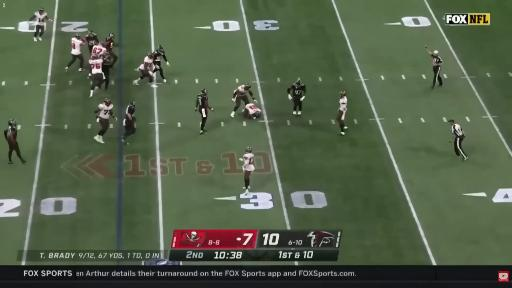Helmet: (101, 98, 111, 106), (245, 147, 253, 155), (108, 32, 116, 40), (295, 80, 303, 87), (340, 91, 347, 98), (147, 51, 154, 58), (200, 89, 208, 95), (8, 120, 16, 126), (158, 46, 164, 53), (75, 34, 82, 40), (92, 56, 100, 60), (245, 84, 251, 89), (254, 112, 260, 117), (130, 100, 135, 106), (39, 8, 44, 13), (104, 51, 109, 56), (89, 30, 93, 35), (99, 43, 103, 47)
Jersey: (98, 103, 114, 119), (139, 56, 154, 71), (288, 85, 305, 98), (124, 105, 135, 125), (89, 59, 103, 74), (243, 153, 254, 171), (197, 94, 208, 111), (72, 38, 83, 55), (153, 50, 167, 62), (6, 126, 17, 141), (246, 104, 261, 115), (86, 33, 98, 46), (35, 12, 47, 25), (92, 44, 106, 55), (103, 53, 113, 67), (234, 86, 249, 95), (126, 105, 135, 120), (339, 97, 347, 112), (106, 37, 114, 51)
Player: (94, 99, 117, 143), (4, 119, 25, 163), (231, 84, 257, 117), (195, 89, 213, 134), (133, 53, 156, 87), (29, 8, 51, 41), (66, 34, 85, 71), (287, 80, 306, 116), (240, 147, 254, 194), (89, 55, 103, 97), (122, 102, 135, 144), (154, 46, 169, 82), (104, 34, 118, 66), (337, 91, 347, 135), (103, 52, 114, 90), (86, 31, 99, 54), (243, 104, 262, 119), (91, 44, 106, 58), (105, 34, 115, 51), (92, 43, 106, 55)
